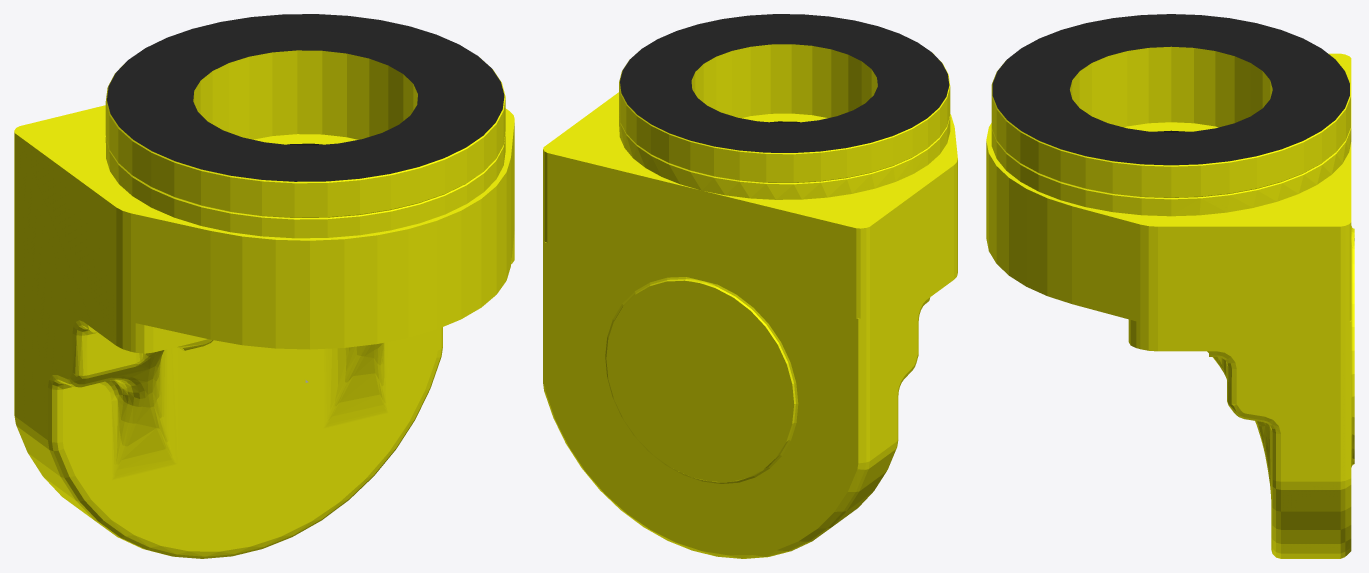
The picture shows the model from 3 angles, left to right: view 1: azimuth 30°, elevation 25°; view 2: azimuth 150°, elevation 25°; view 3: azimuth 270°, elevation 25°; orthographic projection. The views are drawn at different scales.
Parts seen in each view (by area): view 1: node; view 2: node; view 3: node.
Boxes of the visible parts, bbox=[...] form: node: bbox=[14, 14, 514, 558]; node: bbox=[543, 14, 957, 558]; node: bbox=[986, 14, 1354, 558].
Size of the model in its own units: 125 by 151 by 112.
